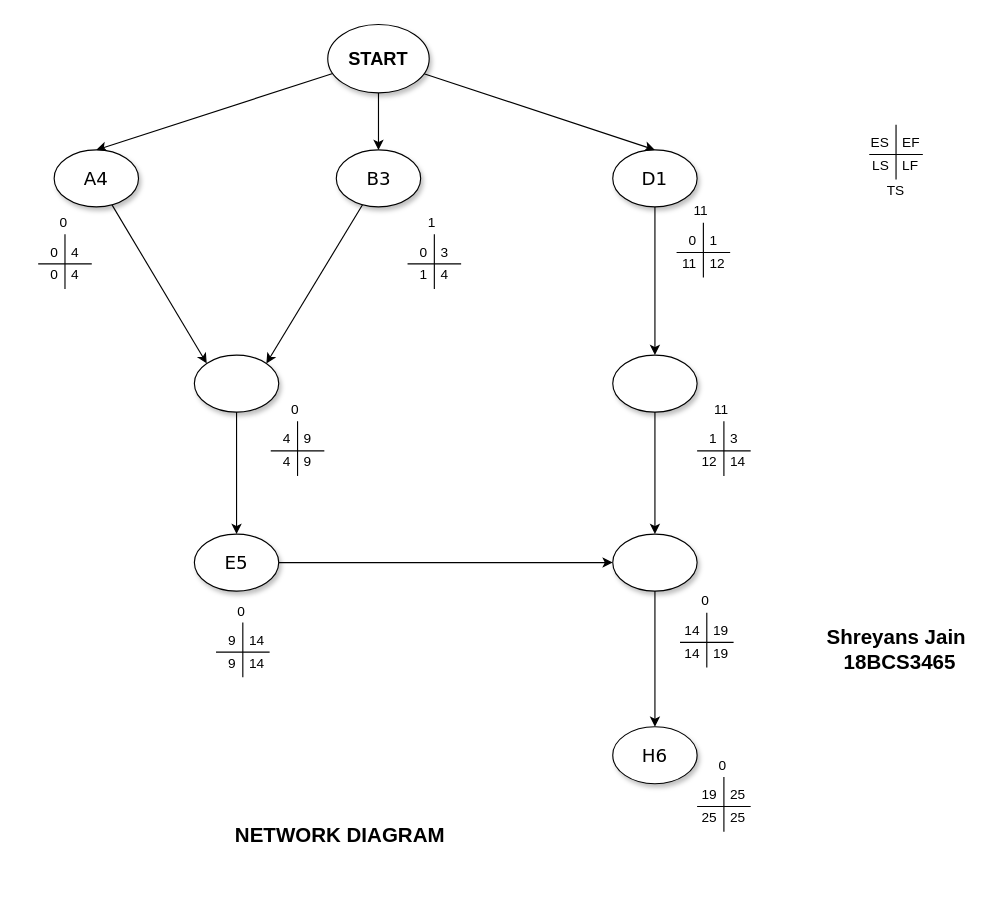
The diagram is 1008 pixels wide and 921 high, and some of its shapes have lost their labels. The shapes that lost their labels are listed below. From the top down, each one's centre as x and y in pixels, then its label:
pixel 237 384: C5
pixel 655 384: F2
pixel 655 563: G5
